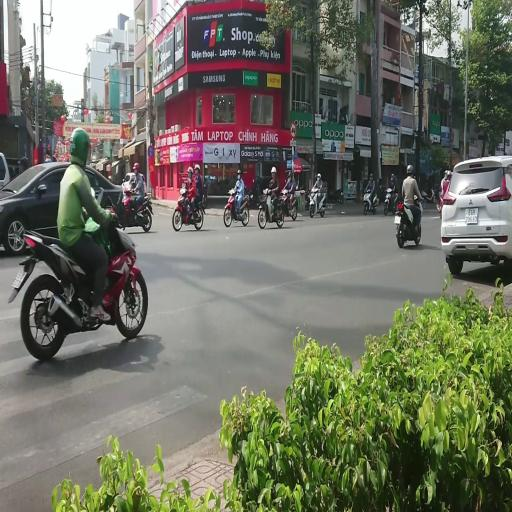bikes: (8, 194, 148, 361), (0, 161, 125, 254), (394, 194, 427, 248), (120, 185, 153, 232), (172, 187, 205, 231), (223, 187, 250, 227), (258, 188, 284, 228), (437, 170, 452, 218), (280, 189, 298, 221), (308, 186, 326, 217), (363, 187, 378, 215), (384, 187, 398, 215), (251, 177, 263, 205), (421, 185, 437, 203), (199, 183, 208, 213), (243, 185, 254, 208), (436, 190, 443, 218), (304, 188, 312, 210), (430, 184, 438, 202), (335, 188, 344, 204), (392, 192, 398, 215)
helmet: (69, 128, 90, 168), (406, 164, 413, 174), (194, 164, 200, 172), (187, 166, 193, 174), (133, 163, 139, 170), (444, 170, 450, 177), (180, 188, 186, 195), (237, 170, 241, 179), (228, 188, 234, 194), (421, 190, 427, 196), (271, 166, 276, 173), (287, 172, 292, 179), (263, 188, 268, 194), (237, 169, 241, 175), (317, 173, 321, 179), (434, 184, 438, 190), (370, 173, 373, 179), (391, 174, 394, 180), (440, 168, 442, 174)
